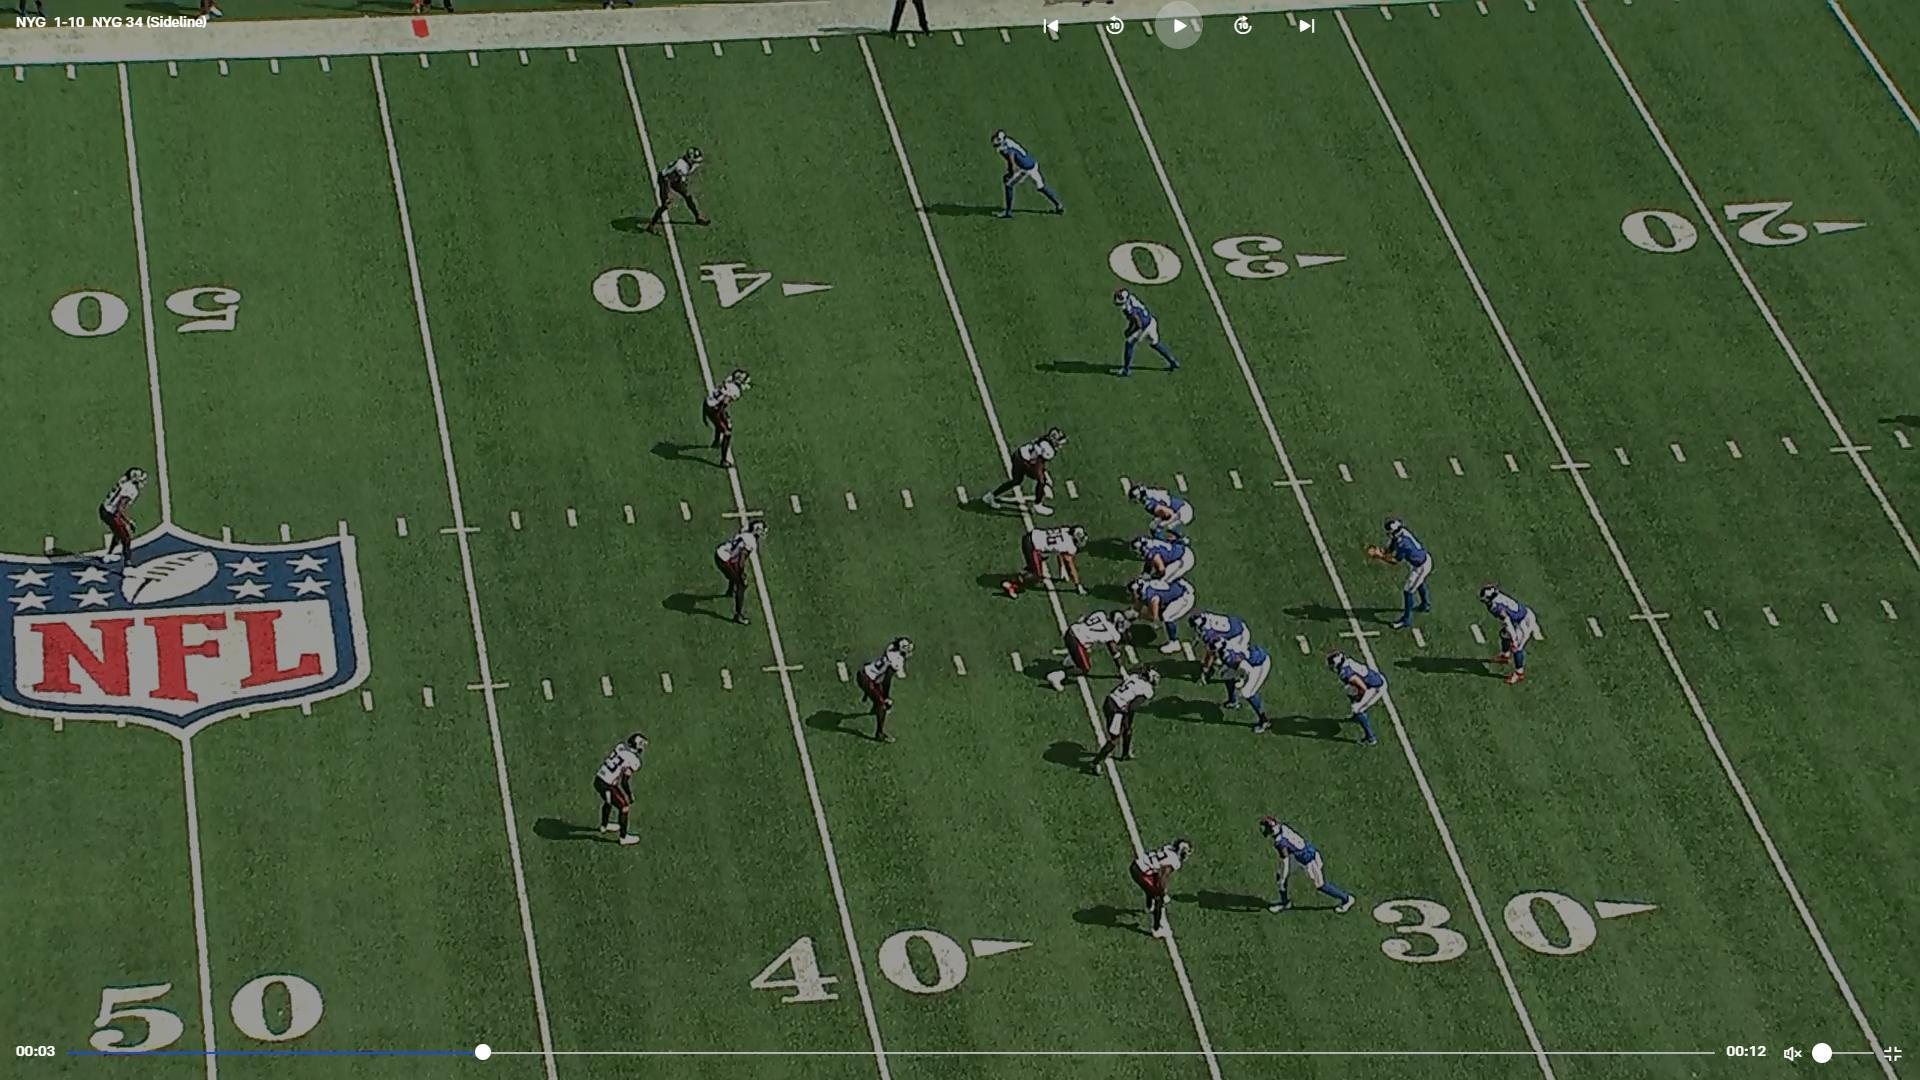defense: (1075, 667, 1156, 787), (1042, 607, 1139, 700), (984, 426, 1076, 521), (1130, 833, 1197, 948), (1001, 521, 1095, 601), (596, 728, 655, 853), (852, 632, 914, 748), (711, 512, 770, 630), (642, 145, 712, 244), (94, 463, 149, 574), (702, 365, 756, 476)
oline: (1213, 637, 1279, 735), (1130, 575, 1203, 657), (1195, 605, 1261, 687), (1124, 475, 1199, 538), (1130, 530, 1197, 585)
qb: (1369, 512, 1441, 636)
skill: (1255, 812, 1358, 918), (1105, 285, 1187, 381), (993, 129, 1071, 224), (1473, 578, 1538, 690), (1329, 649, 1393, 753)
